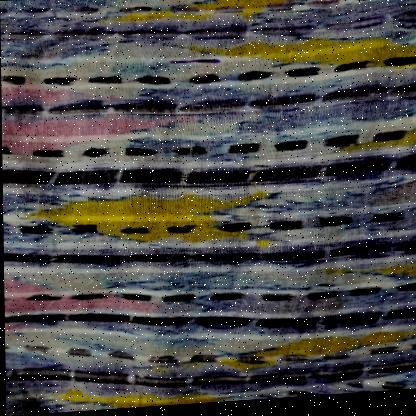spot: (69, 267, 116, 303), (164, 56, 227, 71)
